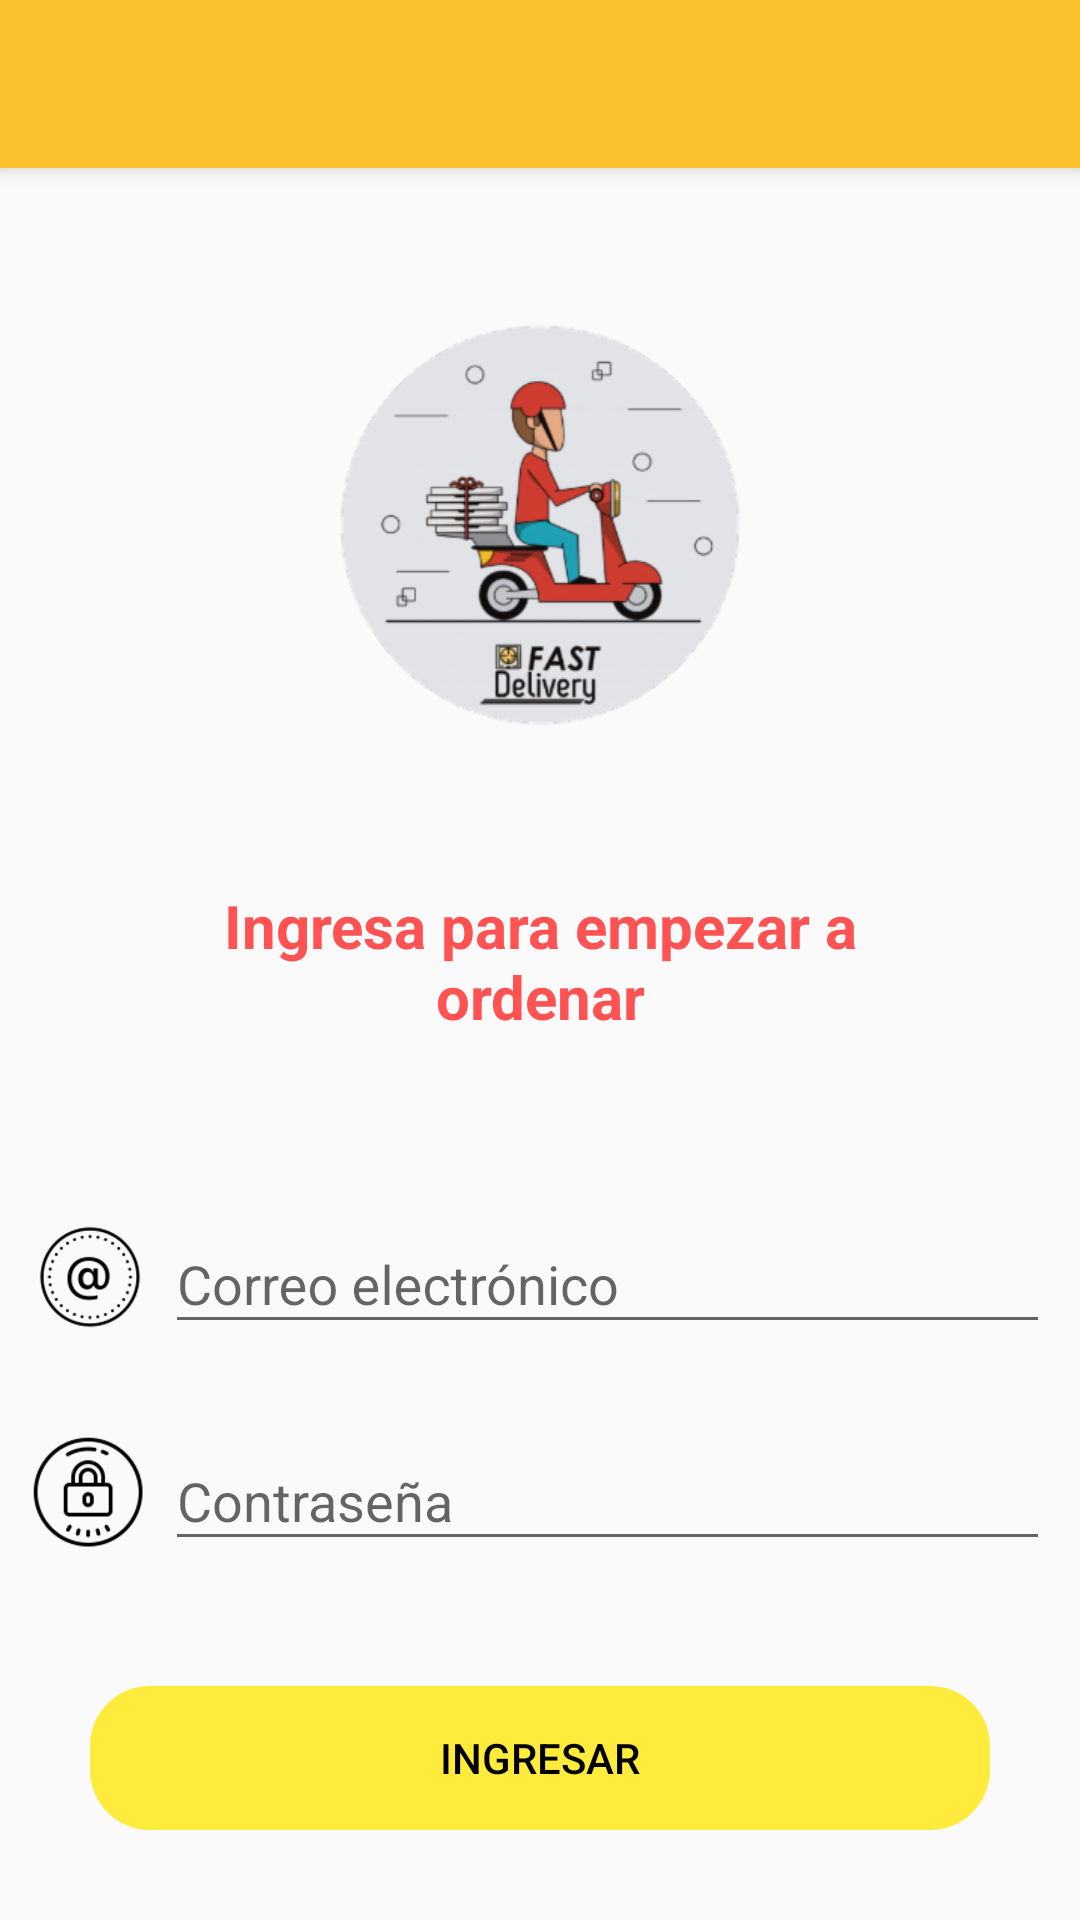

Named icons in this screenshot (1080 × 1920) and their centers, (x=x, y=y):
iconocontrasena: (x=88, y=1492)
iconoemail: (x=90, y=1277)
